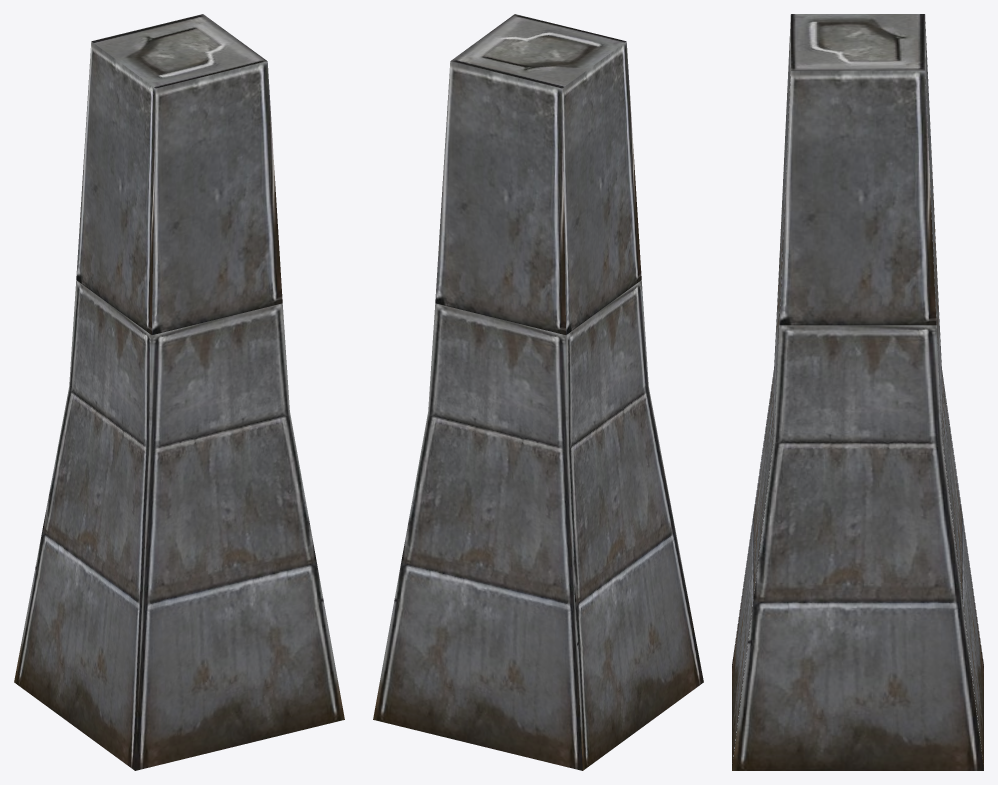
The model's file is s_heavypost_hdtex.glb.
3 renders of one model, left to right at view 1: azimuth 30°, elevation 25°; view 2: azimuth 150°, elevation 25°; view 3: azimuth 270°, elevation 25°, orthographic. The views are drawn at different scales.
Parts seen in each view (by area): view 1: S_HeavyWall; view 2: S_HeavyWall; view 3: S_HeavyWall.
Boxes of the visible parts, left/top/right/bottom form: S_HeavyWall: left=14, top=14, right=344, bottom=770; S_HeavyWall: left=373, top=14, right=703, bottom=770; S_HeavyWall: left=732, top=14, right=983, bottom=770.
Size of the model in its own units: 6 by 17.76 by 6.
Materials: 1 (1 with a texture image).
